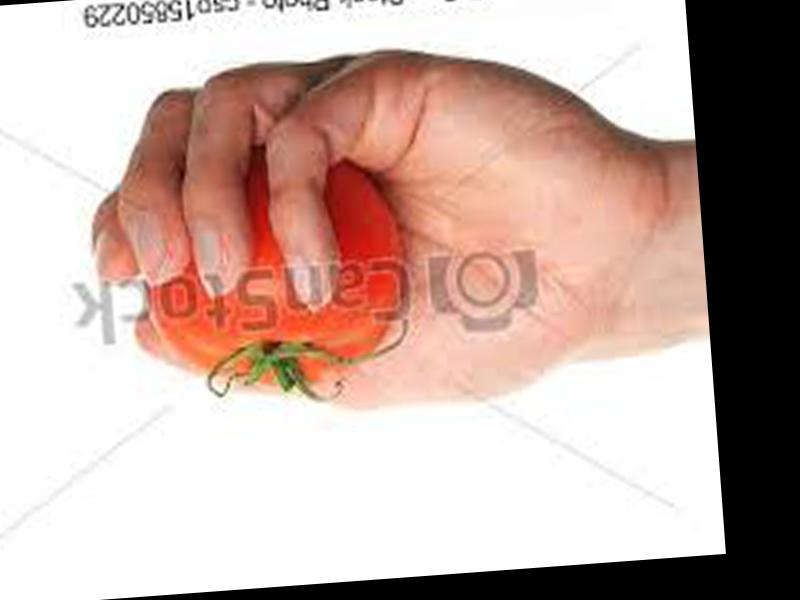Tomato: (137, 145, 405, 394)
